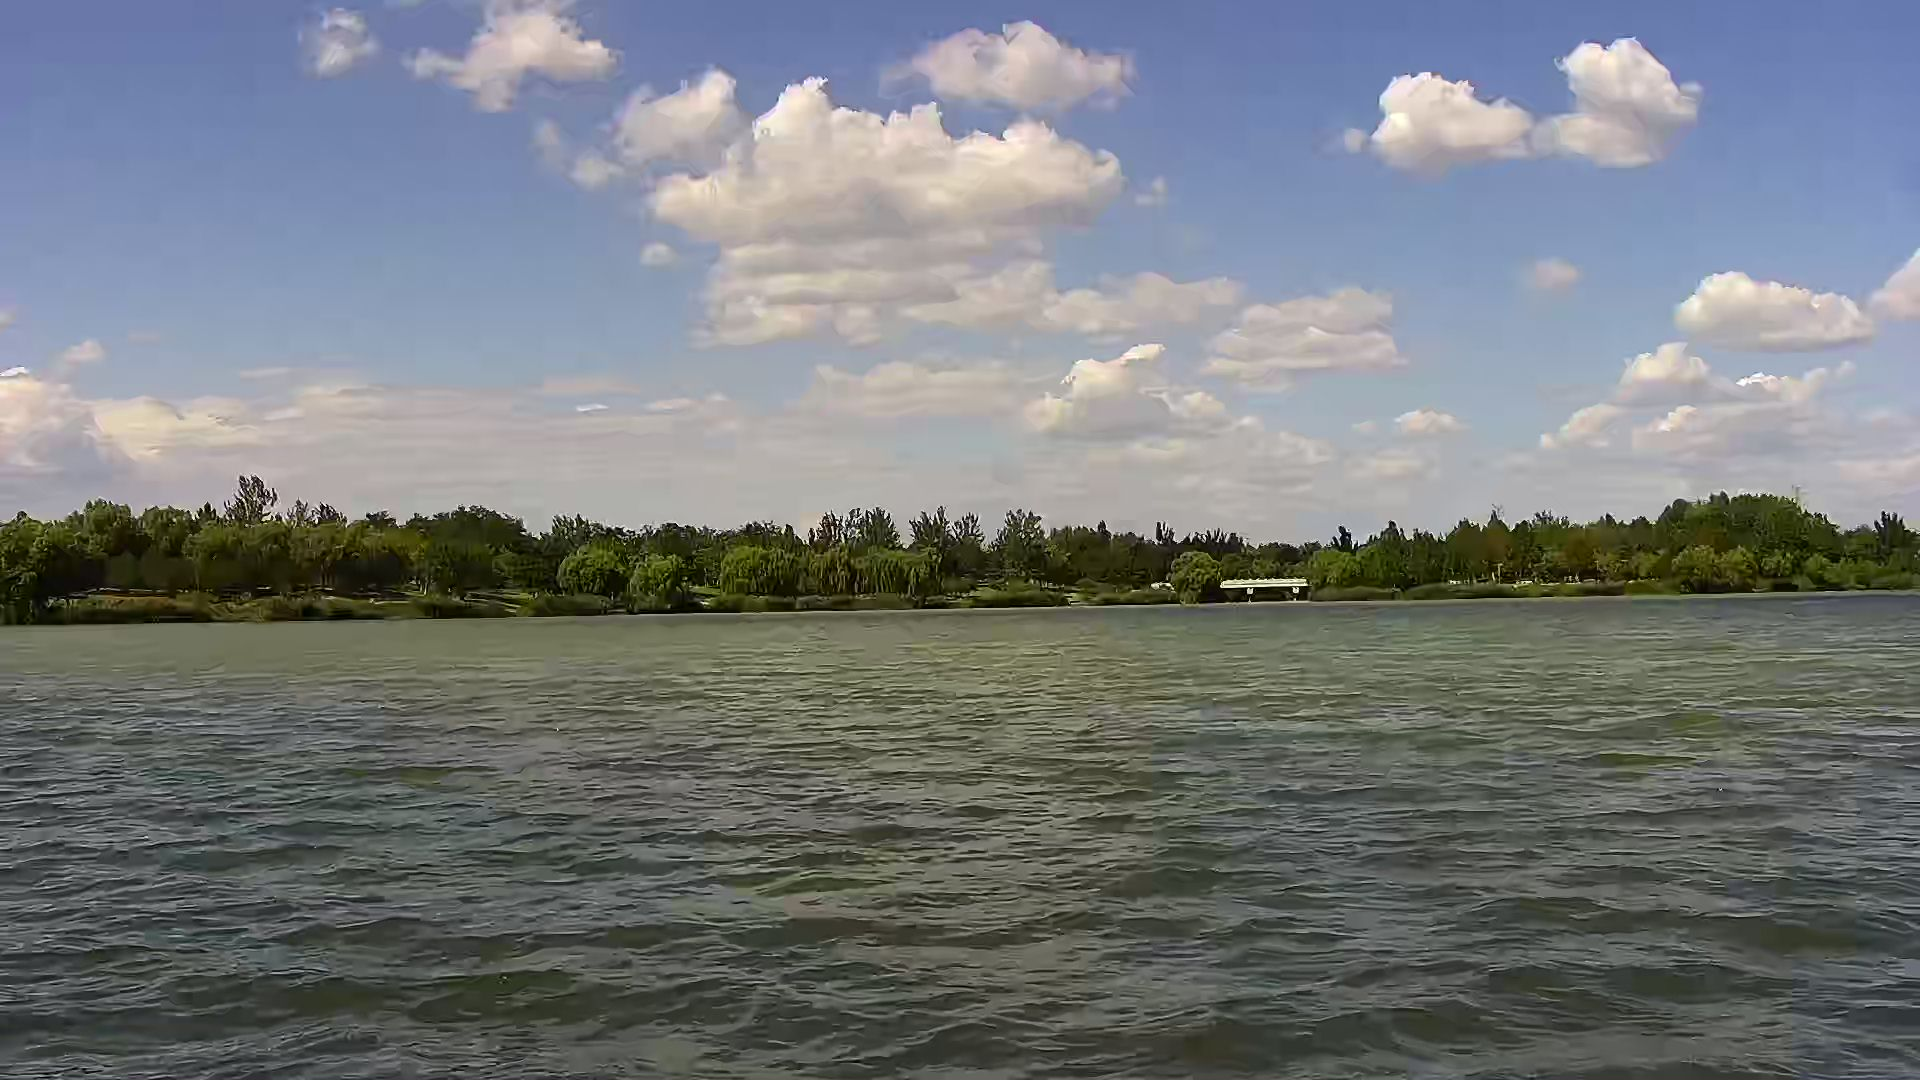bridge: (1220, 575, 1313, 608)
